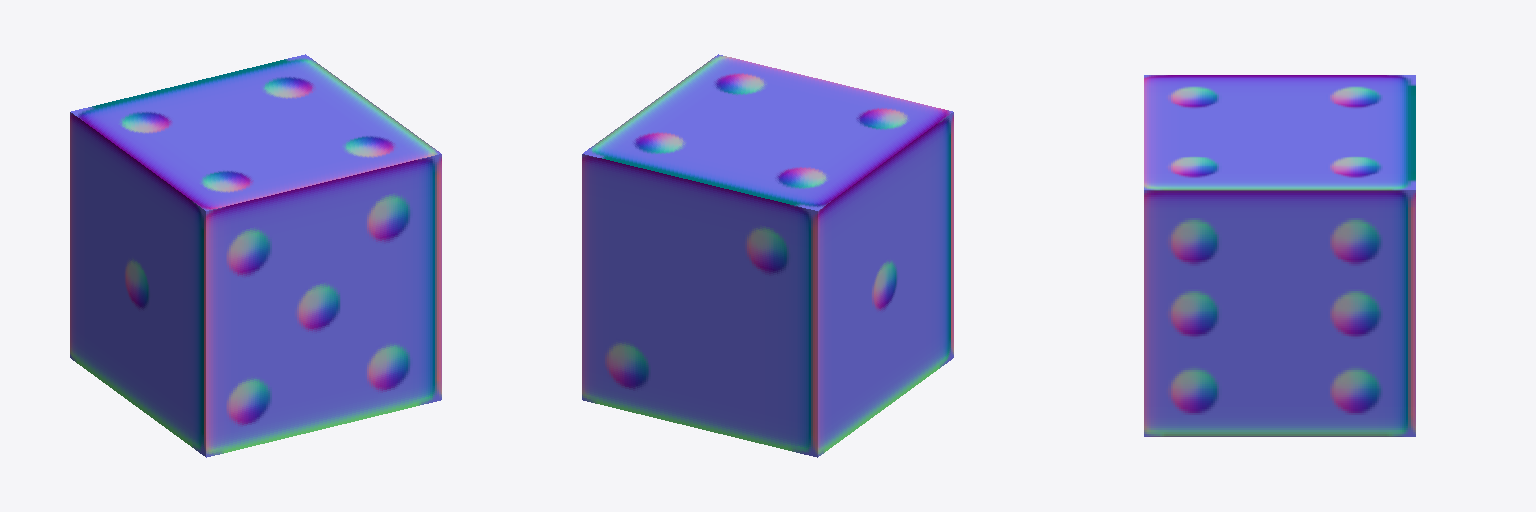
The picture shows the model from 3 angles: view 1: azimuth 30°, elevation 25°; view 2: azimuth 150°, elevation 25°; view 3: azimuth 270°, elevation 25°; orthographic projection.
Parts seen in each view (by area): view 1: Cube; view 2: Cube; view 3: Cube.
Boxes of the visible parts, box(x1,y1,x2,y2) form: Cube: box(70, 54, 441, 457); Cube: box(582, 54, 953, 457); Cube: box(1144, 75, 1415, 436).
Size of the model in its own units: 2 by 2 by 2.
Materials: 1 (1 with a texture image).